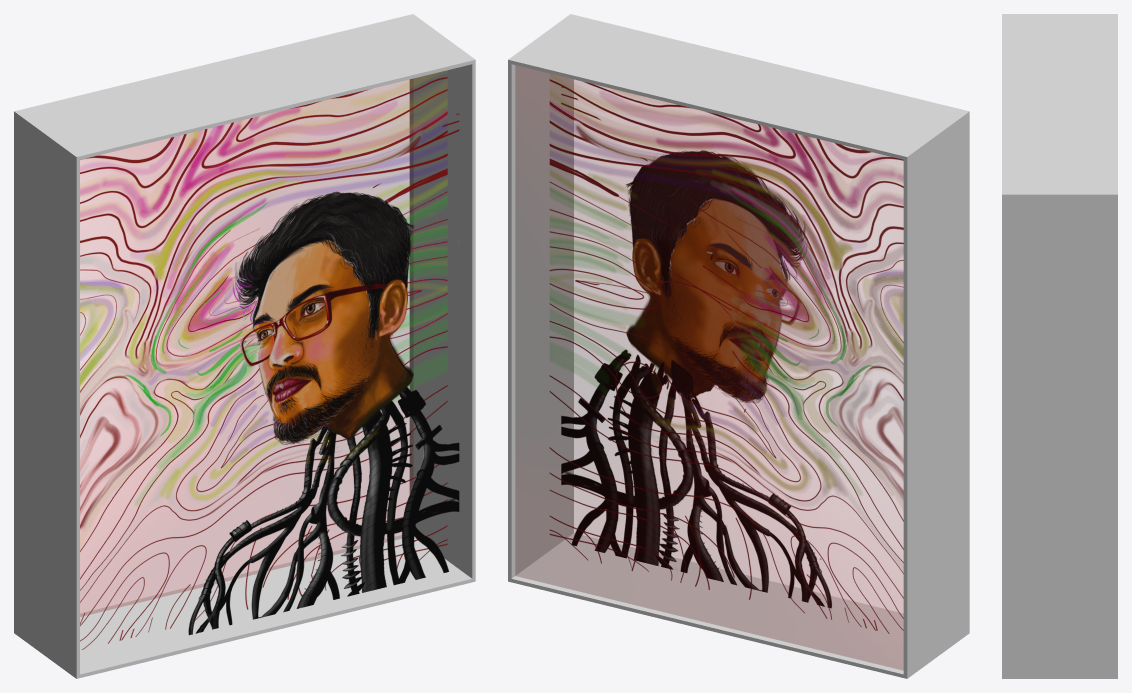
Rendered from atr.glb.
3 renders of one model, left to right at view 1: azimuth 30°, elevation 25°; view 2: azimuth 150°, elevation 25°; view 3: azimuth 270°, elevation 25°, orthographic. The views are drawn at different scales.
Parts seen in each view (by area): view 1: frame, 1, 2, 4, 3, 6; view 2: 1, frame, 2, 4, 3; view 3: frame.
Boxes of the visible parts, x1,y1,x2,y2 form: frame: (14,14,475,678); 1: (80,79,413,616); 2: (80,72,447,649); 4: (235,191,413,444); 3: (188,113,459,635); 6: (210,192,413,444); 1: (515,66,903,669); frame: (508,14,969,678); 2: (549,79,903,633); 4: (626,150,804,402); 3: (561,87,831,608); frame: (1002,14,1117,678).
Size of the model in its own units: 0.8368 by 1.01 by 0.2201.
Materials: 7 (6 with a texture image).
